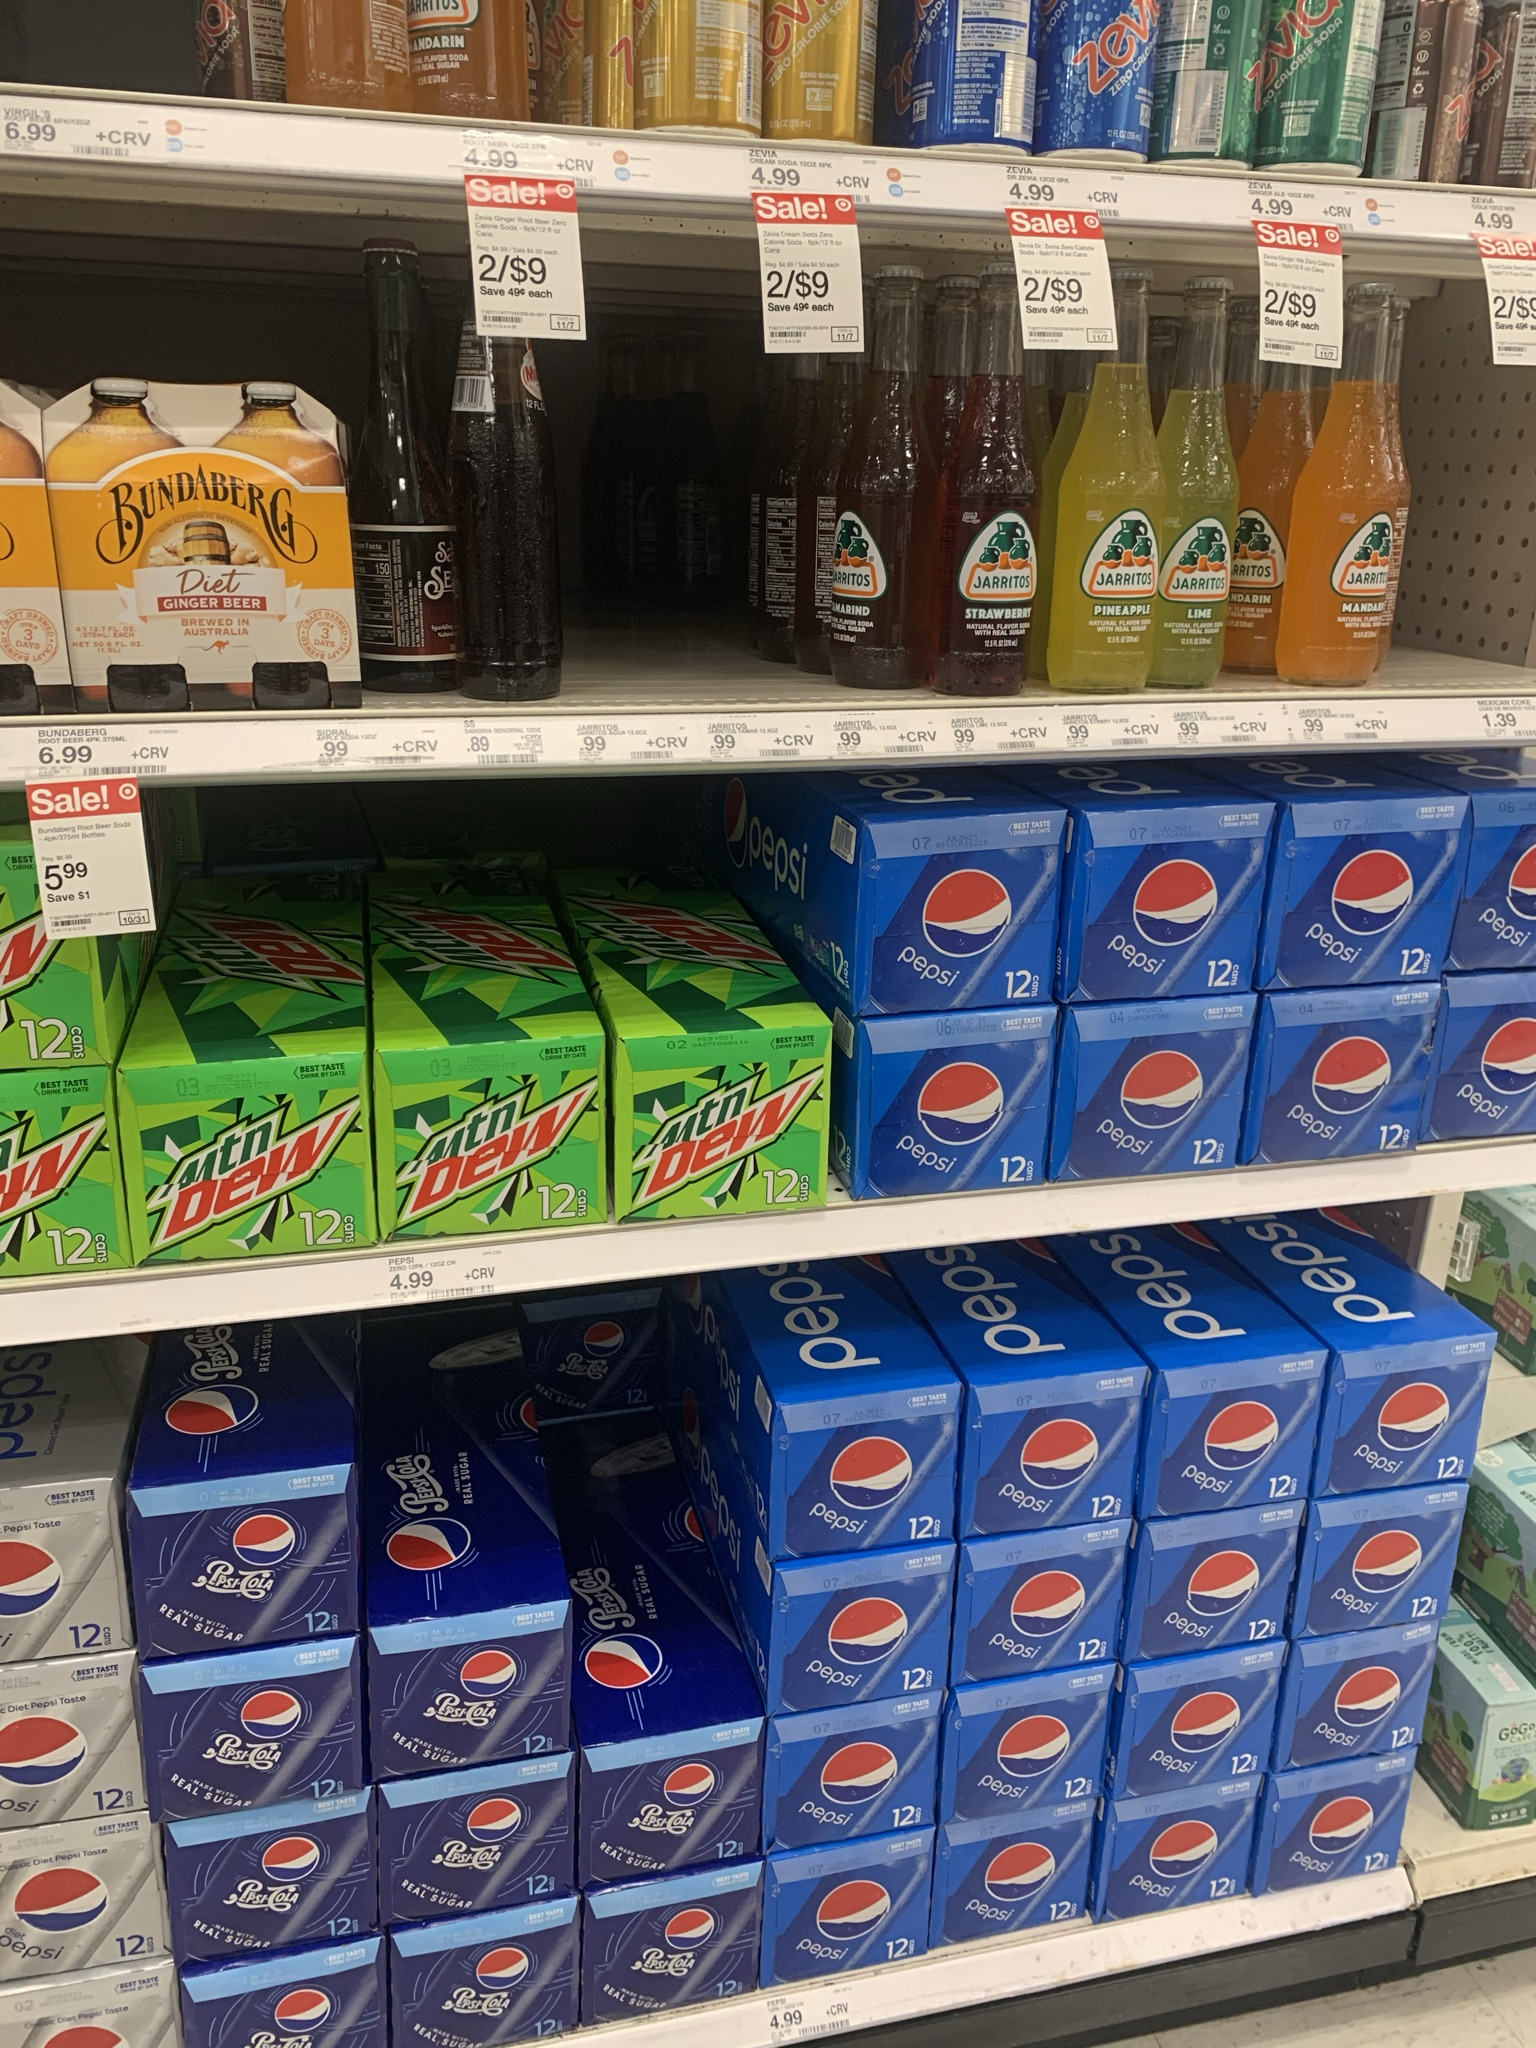jarritos soda: (1302, 279, 1384, 693), (962, 284, 1037, 719), (1083, 274, 1157, 684), (871, 271, 920, 674), (1184, 285, 1226, 679)
mountain dew soda: (115, 1074, 387, 1251), (2, 856, 103, 1255), (399, 1064, 607, 1188), (644, 1050, 842, 1164)
pepsi soda: (2, 1496, 202, 2048), (778, 1409, 928, 2000), (839, 821, 1058, 1197), (979, 1397, 1113, 1896), (194, 1834, 742, 1951), (1084, 819, 1244, 1151), (1270, 814, 1434, 1135), (1158, 1376, 1257, 1909), (1326, 1361, 1409, 1871), (1459, 805, 1536, 1151), (160, 1506, 361, 1616), (157, 1693, 608, 1711)
